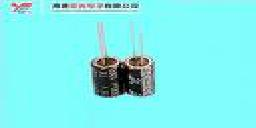Electrolytic-Capacitor: (125, 18, 162, 99), (88, 19, 124, 99)
